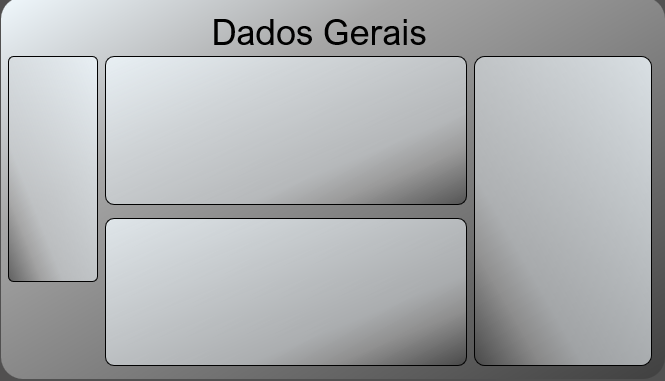

What the dashboard file says about the page in this screenshot:
{"tool":"powerbi","page":{"name":"Geral","canvas":[1280,720],"ordinal":0},"visuals":[{"type":"tableEx","title":"Tabela valores negociações das empresas","fields":{"Values":["Agrupado.Date.Variation.Hierarquia de datas.Ano","Agrupado.Empresa","Agrupado.High","Agrupado.Low","Agrupado.Open"]},"box":[879.7,338,360.2,360.2],"z":0},{"type":"actionButton","box":[0,0,100,40],"z":1000},{"type":"slicer","fields":{"Values":["Agrupado.Empresa"]},"box":[0,140.5,225.4,395.1],"z":2000},{"type":"stackedAreaChart","fields":{"Y":["Sum(Agrupado.Volume)"],"Category":["Agrupado.Date.Variation.Hierarquia de datas.Ano","Agrupado.Date.Variation.Hierarquia de datas.Trimestre","Agrupado.Date.Variation.Hierarquia de datas.Mês","Agrupado.Date.Variation.Hierarquia de datas.Dia"]},"box":[272.2,39.5,982,276.6],"z":3000},{"type":"stackedAreaChart","fields":{"Category":["Agrupado.Date.Variation.Hierarquia de datas.Mês"],"Series":["Agrupado.Empresa"],"Y":["Agrupado.Média de Close MoM%"]},"box":[283.9,379,551.7,278],"z":4000}]}

Visuals, with their boxes in screenshot pixels (x1, y1, x2, y2), scaled from the page's 1280x720 canvas onto the 665x381 screenshot:
"Tabela valores negociações das empresas" tableEx: box(457, 179, 644, 369)
actionButton: box(0, 0, 52, 21)
slicer - Agrupado.Empresa: box(0, 74, 117, 283)
stackedAreaChart - Sum(Agrupado.Volume) x Agrupado.Date.Variation.Hierarquia de datas.Ano: box(141, 21, 652, 167)
stackedAreaChart - Agrupado.Date.Variation.Hierarquia de datas.Mês x Agrupado.Empresa: box(147, 201, 434, 348)
